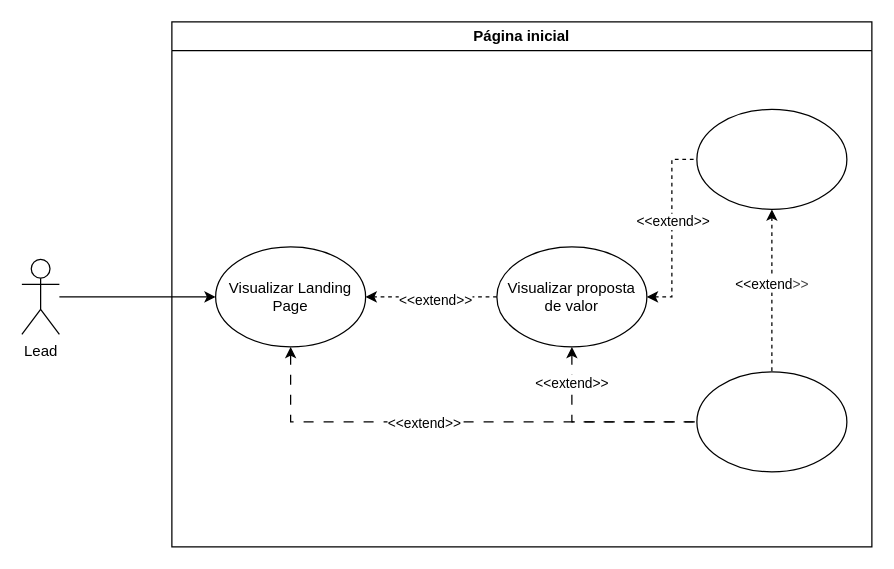
This 894x569 diagram has some shape labels left out. Each missing label, with the box of its shape:
Acessar a previa do feed: (696, 108, 847, 209)
Acessar o site: (696, 371, 847, 472)
